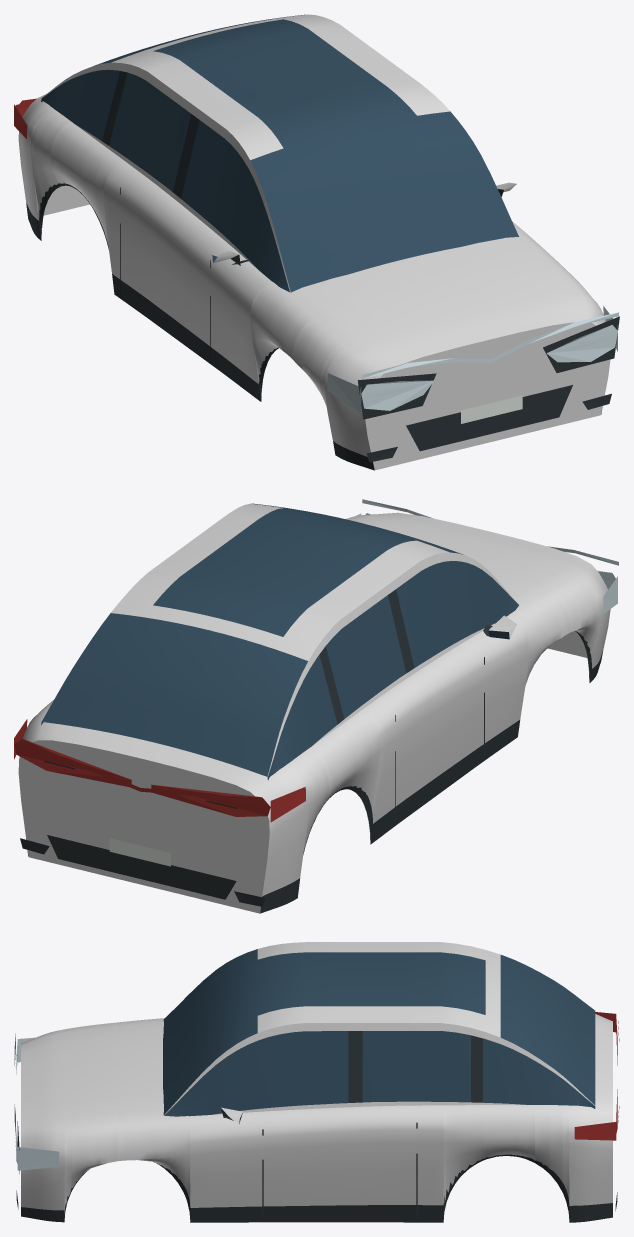
The model's file is veh_vf8-lod0.glb.
The picture shows the model from 3 angles, top to bottom: view 1: azimuth 30°, elevation 25°; view 2: azimuth 150°, elevation 25°; view 3: azimuth 270°, elevation 25°; orthographic projection. The views are drawn at different scales.
Visible parts, largest first — view 1: paint, glass, trim, head, plate; view 2: paint, glass, trim, tail, head, plate; view 3: paint, glass, trim, head, tail.
Boxes of the visible parts, x1,y1,x2,y2 form: paint: [18, 14, 610, 470]; glass: [41, 14, 518, 292]; trim: [26, 71, 619, 470]; head: [327, 306, 618, 414]; plate: [461, 395, 522, 423]; paint: [18, 503, 610, 913]; glass: [41, 503, 518, 780]; trim: [20, 589, 602, 913]; tail: [14, 719, 305, 822]; head: [356, 499, 618, 613]; plate: [109, 838, 170, 866]; paint: [21, 942, 612, 1213]; glass: [163, 949, 595, 1123]; trim: [16, 1031, 617, 1222]; head: [14, 1033, 59, 1170]; tail: [574, 1012, 619, 1140].
Size of the model in its own units: 1.61 by 1.15 by 3.27.
